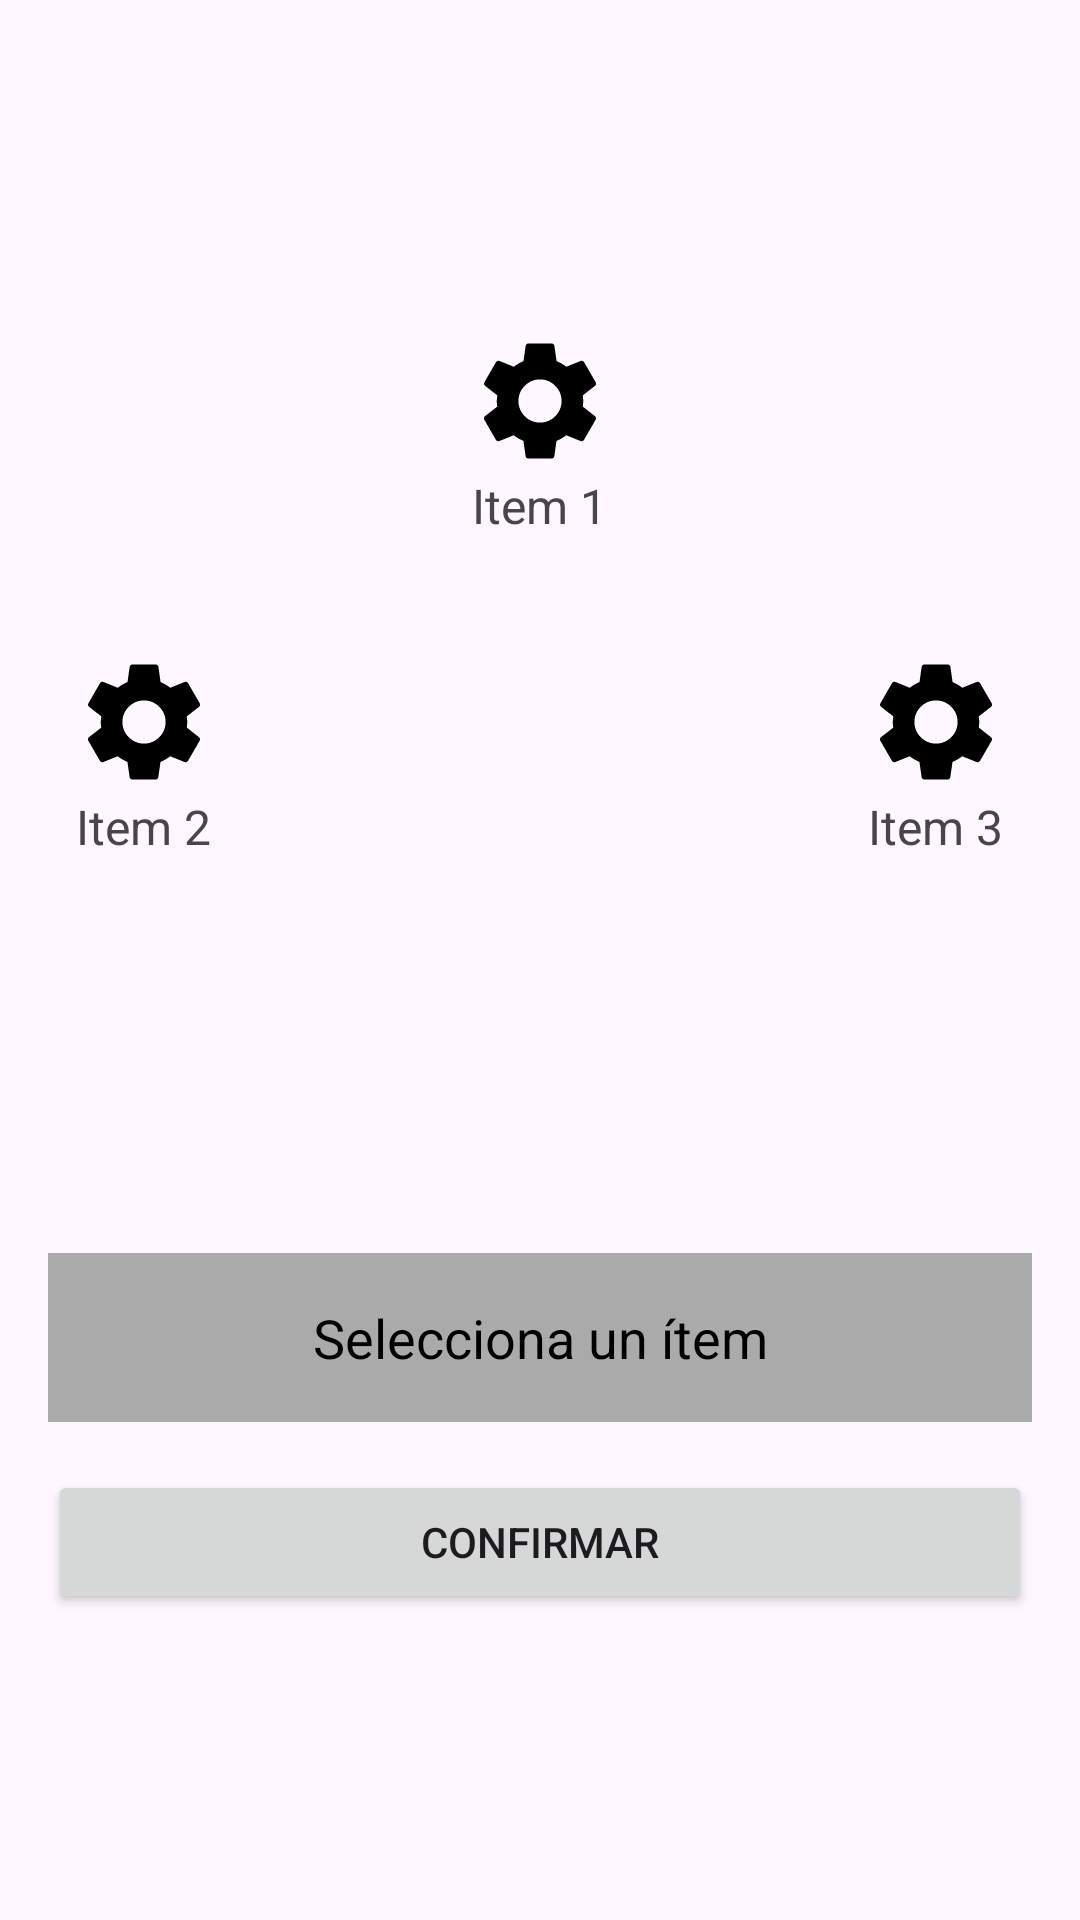

Where icons sit on this 1080 x 1920 app screen, as rect(x1, y1, x2, y2):
configuraciones: rect(484, 343, 596, 459), rect(88, 664, 200, 780), rect(880, 664, 992, 780)
